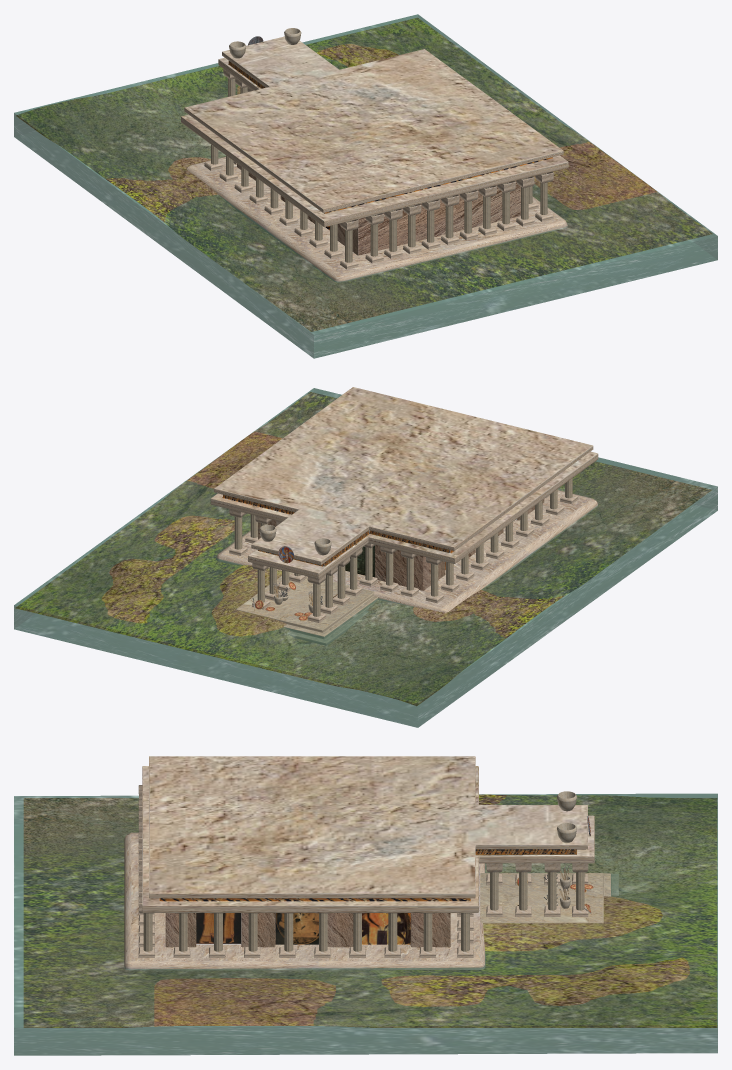
The model's file is temple.gltf.
3 views of the same model, one above another, from view 1: azimuth 30°, elevation 25°; view 2: azimuth 150°, elevation 25°; view 3: azimuth 270°, elevation 25° (orthographic). The views are drawn at different scales.
Visible parts, largest first — view 1: pCube1, pPlane1, techo, pisop, edificio_1; view 2: pCube1, pPlane1, techo, pisop, escalones, edificio_1; view 3: pCube1, pPlane1, techo, pisop, edificio_1, escalones.
Boxes of the visible parts, x1,y1,x2,y2 form: pCube1: (14, 14, 717, 358); pPlane1: (16, 17, 712, 331); techo: (181, 36, 568, 227); pisop: (186, 156, 567, 282); edificio_1: (237, 163, 520, 255); pCube1: (14, 388, 717, 727); pPlane1: (15, 392, 711, 705); techo: (210, 387, 598, 578); pisop: (216, 490, 598, 612); escalones: (236, 572, 377, 645); edificio_1: (258, 499, 544, 590); pCube1: (14, 793, 717, 1055); pPlane1: (23, 794, 717, 1027); techo: (142, 756, 594, 912); pisop: (124, 832, 485, 970); edificio_1: (165, 913, 450, 947); escalones: (480, 873, 618, 923).
Bounding box in the file's own units: 327 × 79.37 × 420.
13 materials, 13 textured.
